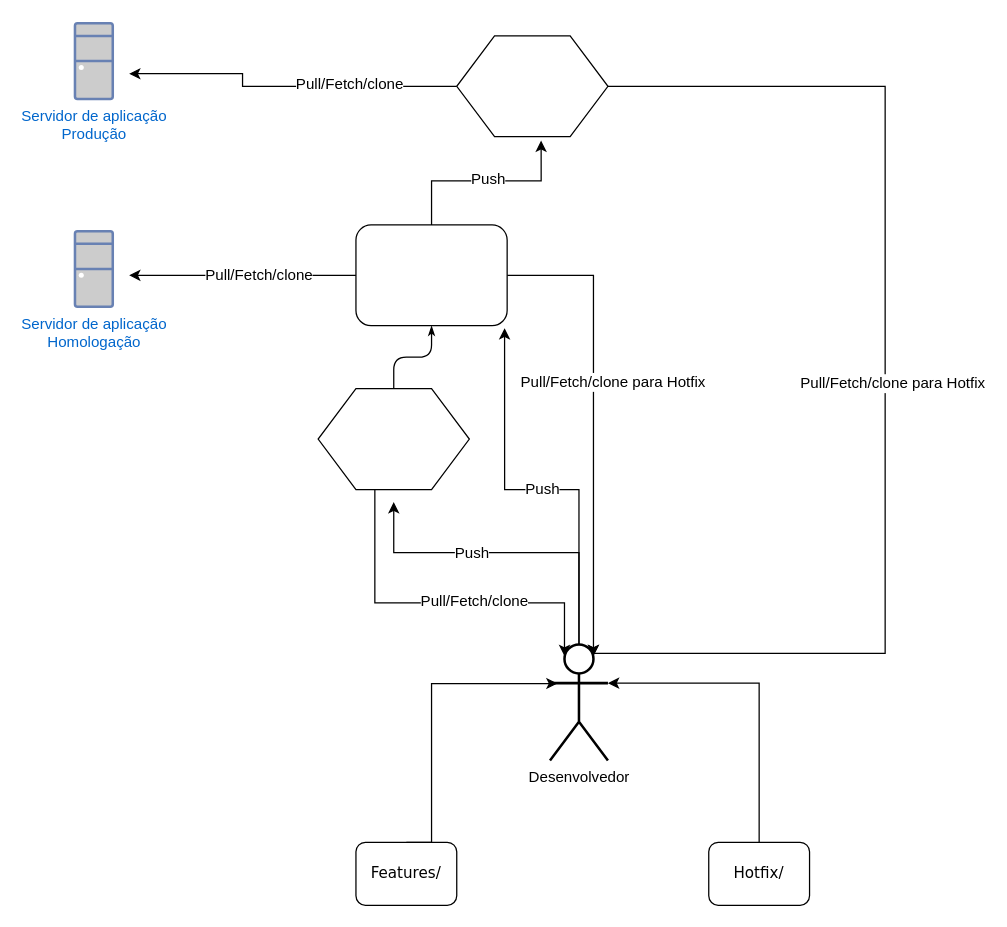
This 1007x927 diagram has some shape labels left out. The centre of each missing label's shape, as x and y in pixels:
"Develop" belongs at pixel 393 438.
"Master" belongs at pixel 531 86.
"Releases" belongs at pixel 431 275.
